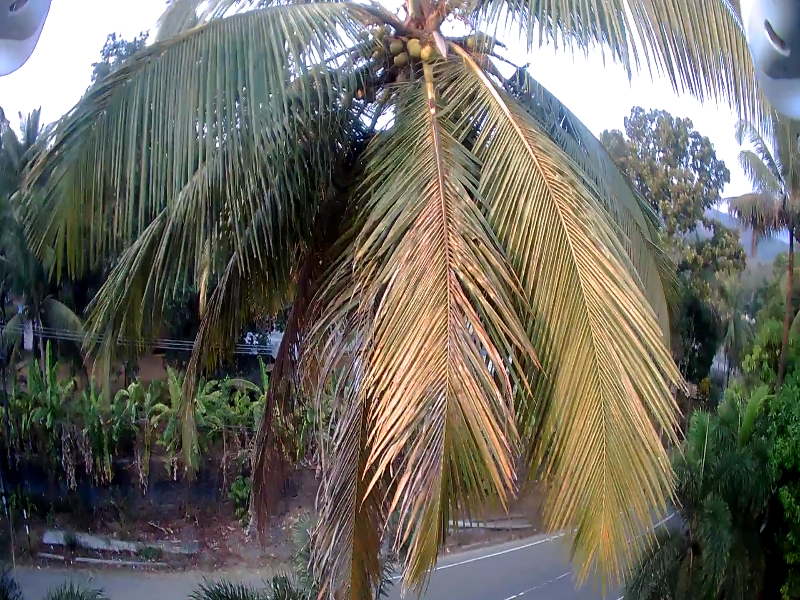coconut: (416, 45, 438, 64), (408, 33, 421, 53), (394, 53, 408, 68), (468, 36, 482, 50), (356, 27, 368, 40), (391, 39, 405, 49), (379, 23, 390, 33)
